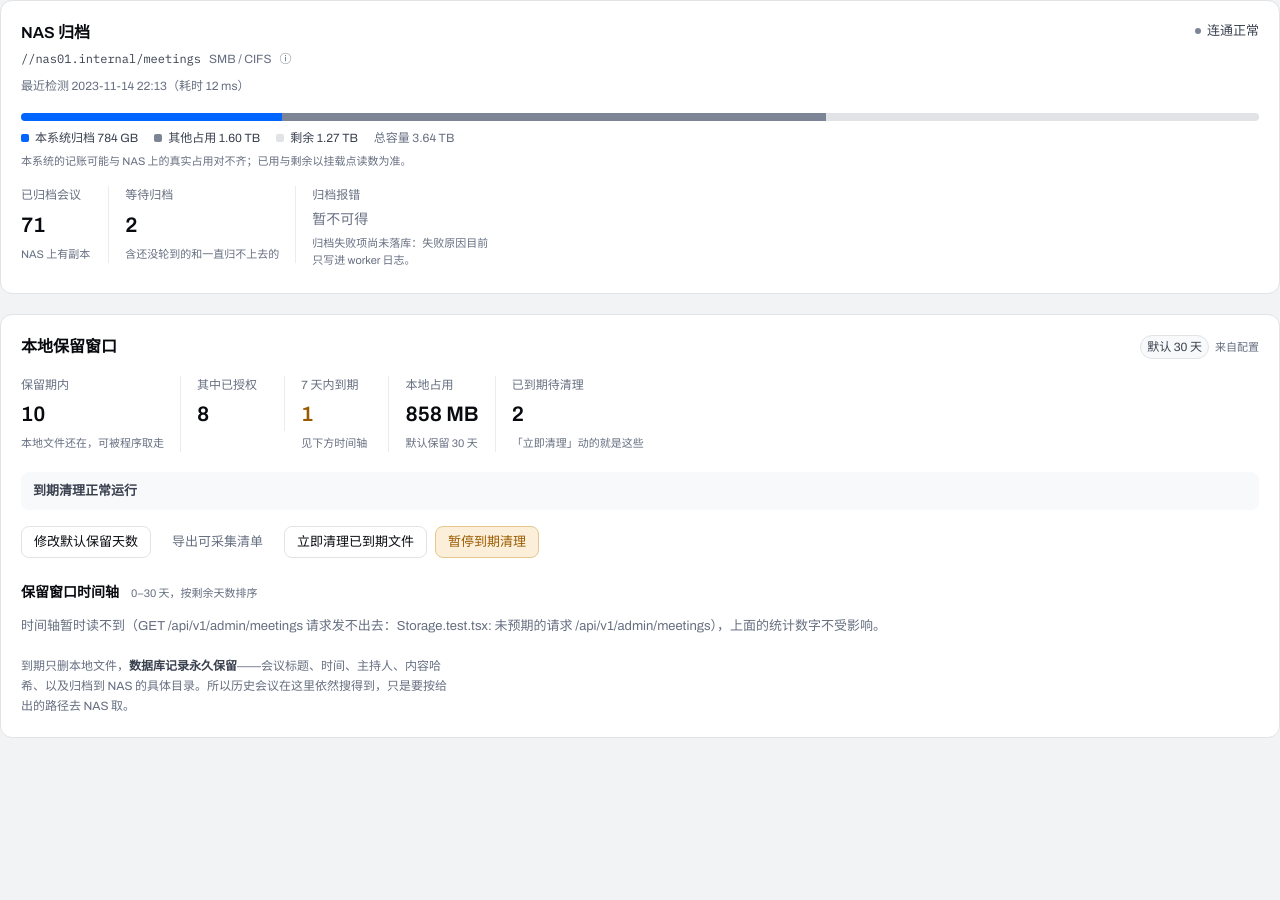
NAS 归档 › 协议是从挂载点形式推断的，"是推断"点开 ⓘ 才说——但一定说得到
This screenshot has width=1280, height=900.
Expected: the heading "NAS 归档" is shown, left=21, top=24, right=90, bottom=41
Expected: the element with test id "nas-protocol" shows "SMB", left=209, top=52, right=272, bottom=66
Click the button "ⓘ": [286, 59] box left=280, top=53, right=292, bottom=65
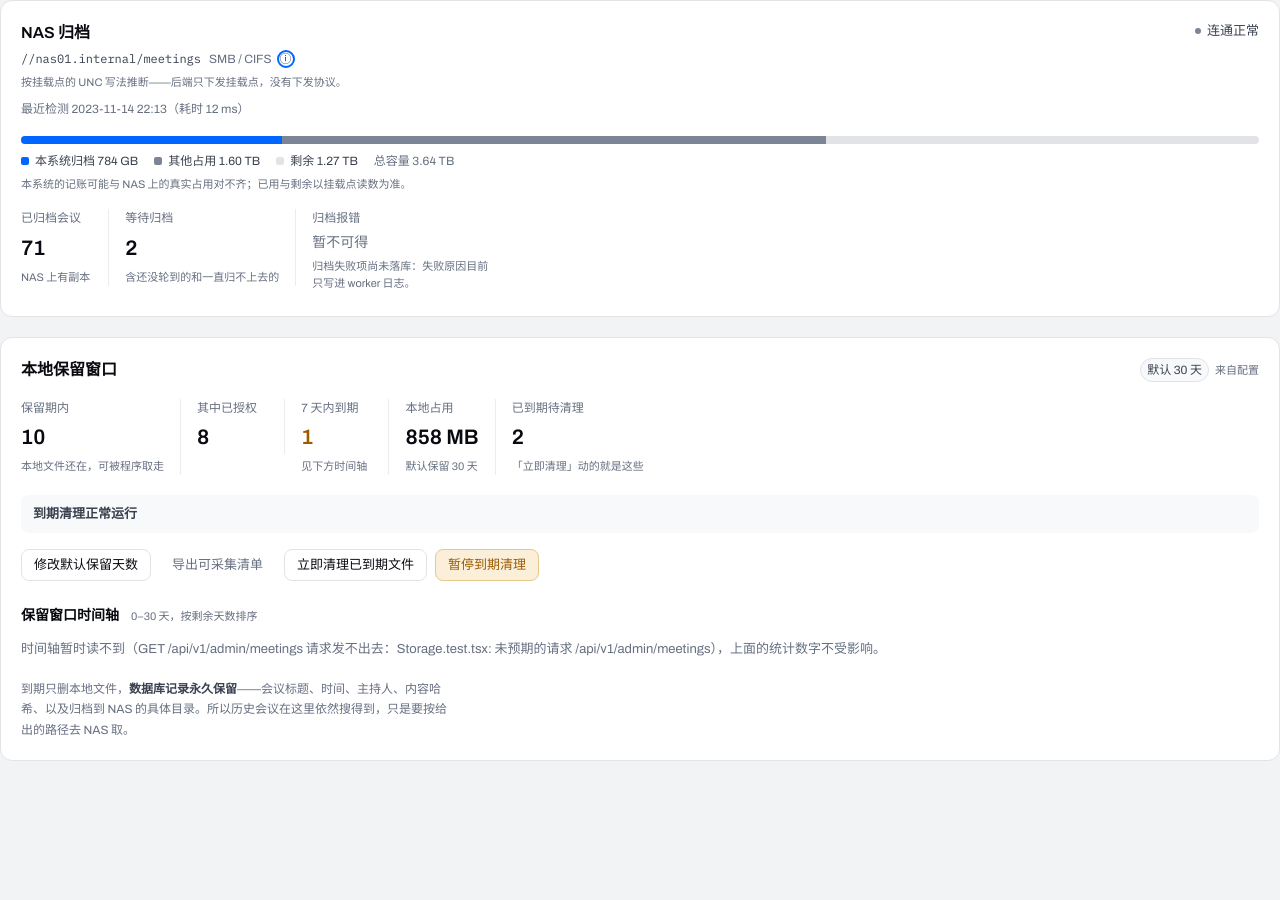
Result: the button "ⓘ" is expanded at left=280, top=53, right=292, bottom=65
Result: the text "按挂载点的 UNC 写法推断——后端只下发挂载点，没有下发协议。" is shown at left=21, top=76, right=347, bottom=88
